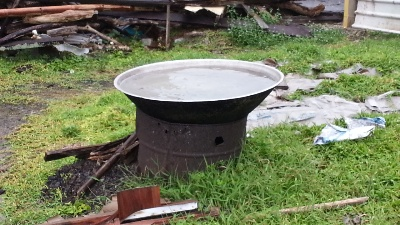bowl: (113, 57, 285, 124)
